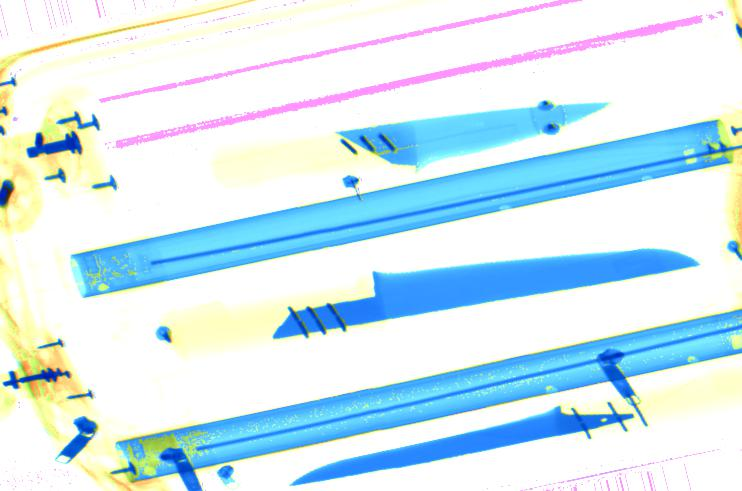Knife: (267, 246, 701, 342), (289, 402, 649, 485), (307, 99, 612, 175)
